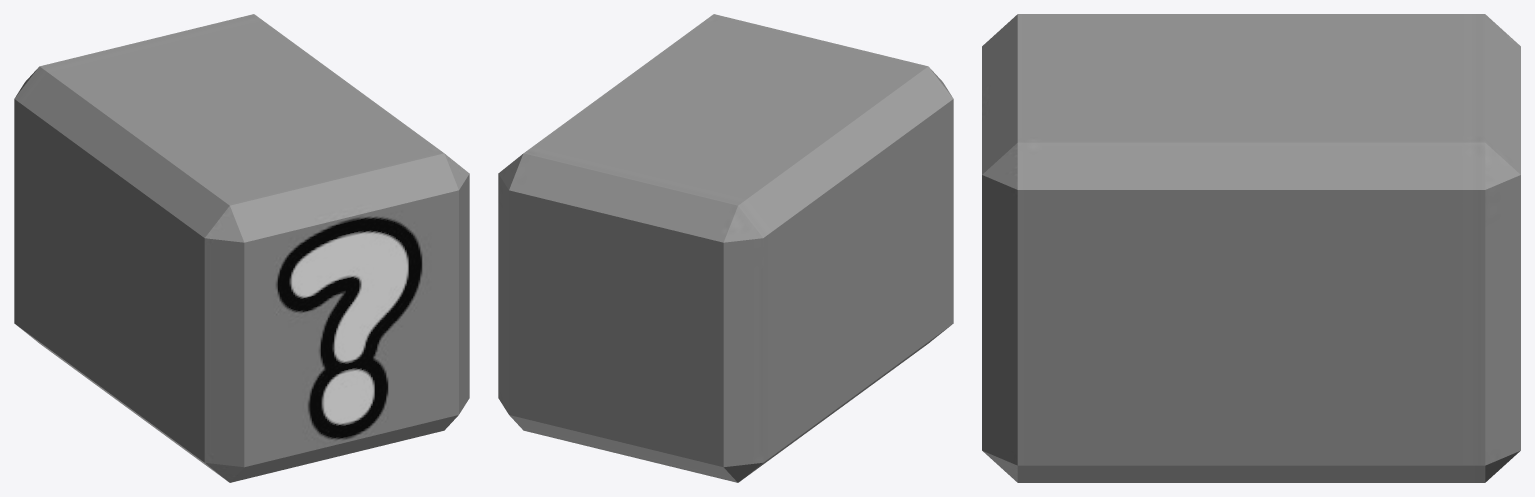
The model's file is Mystery_Cube_1.fbx.
The picture shows the model from 3 angles, left to right: view 1: azimuth 30°, elevation 25°; view 2: azimuth 150°, elevation 25°; view 3: azimuth 270°, elevation 25°; orthographic projection. The views are drawn at different scales.
Parts seen in each view (by area): view 1: Mystery_Cube_1; view 2: Mystery_Cube_1; view 3: Mystery_Cube_1.
Part boxes in pixels (x1,y1,x2,y2): Mystery_Cube_1: (14, 14, 469, 482); Mystery_Cube_1: (498, 14, 953, 482); Mystery_Cube_1: (982, 14, 1520, 482).
Size of the model in its own units: 0.0504 by 0.0504 by 0.0723.
